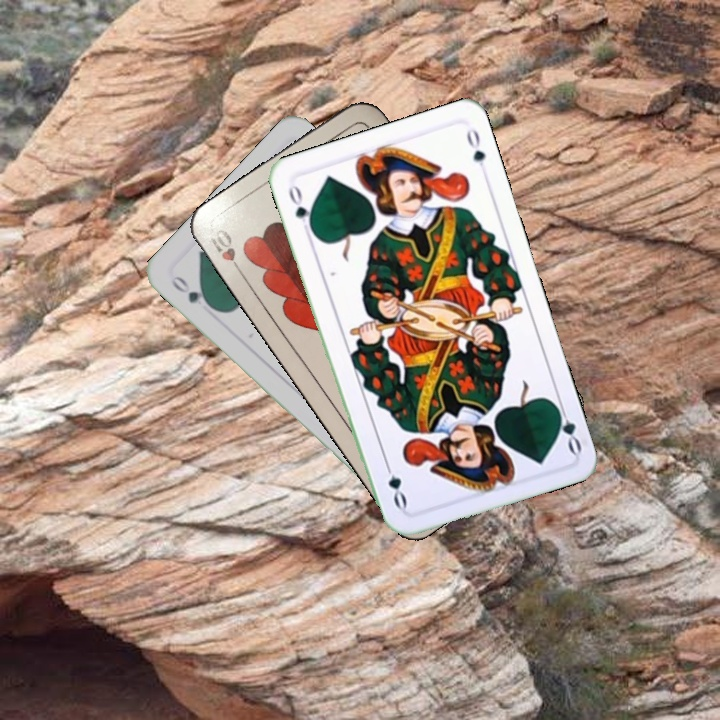GO: (167, 271, 217, 312), (550, 398, 585, 456), (284, 180, 316, 236)
H10: (202, 223, 247, 279)
